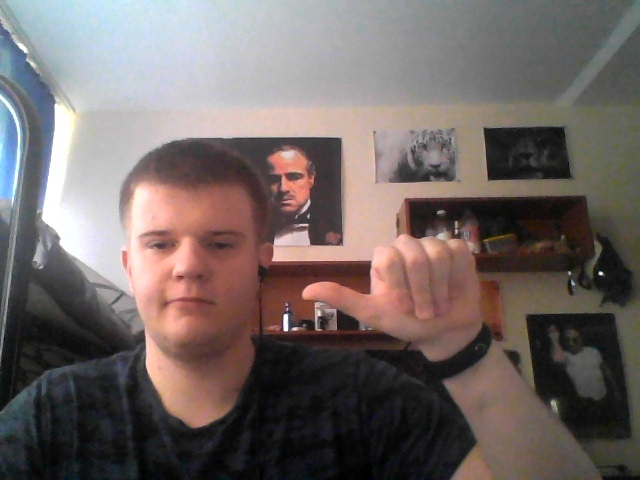bye: (301, 230, 483, 344)
